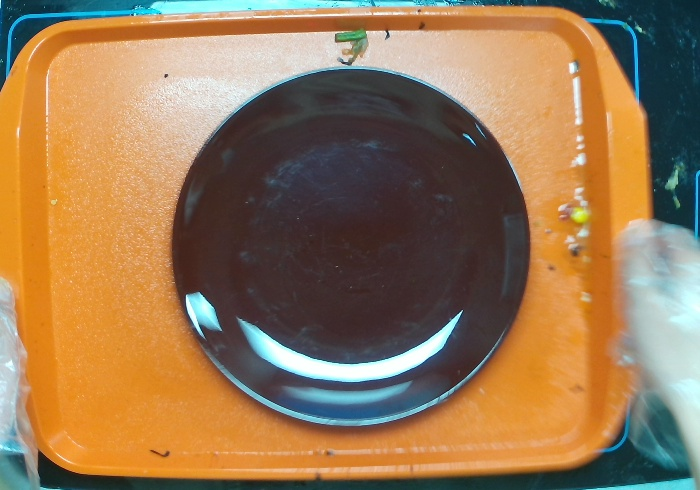HZYJPL-Ka_Fei_Yuan_Pan: (157, 58, 543, 441)
